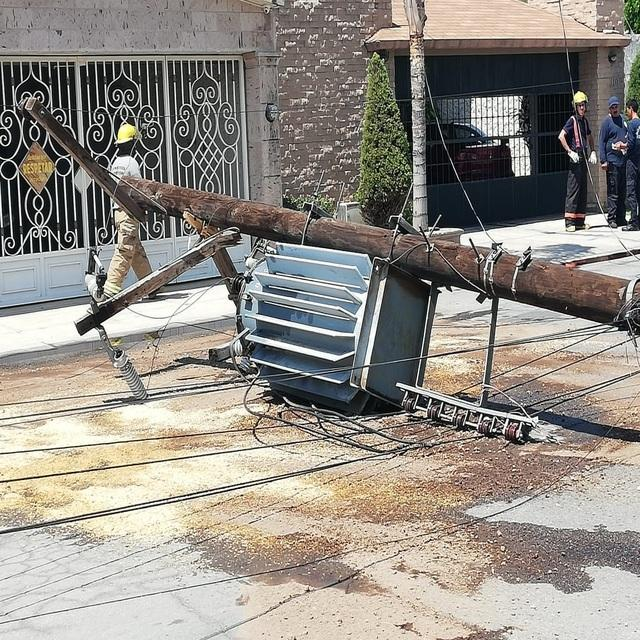Inclined Pole: (21, 89, 640, 443)
